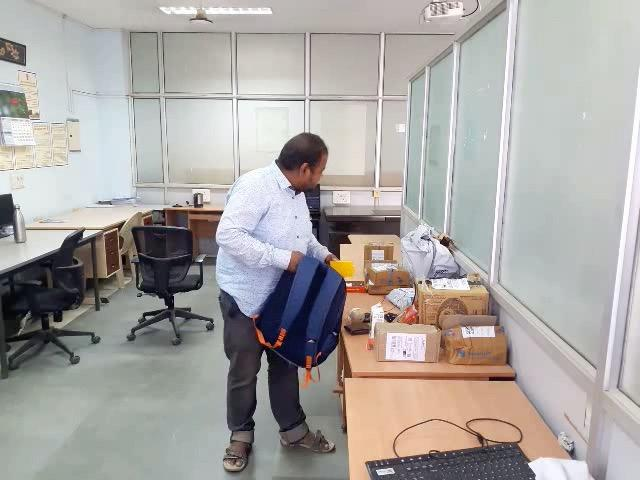shoplifting: (206, 212, 394, 413)
